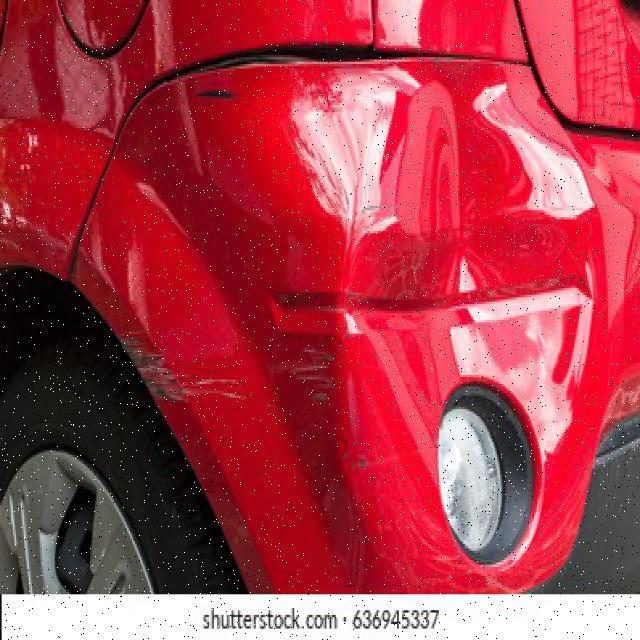rear-bumper-dent: (103, 87, 608, 592)
